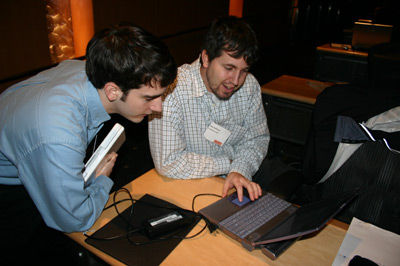person: (148, 15, 270, 205)
